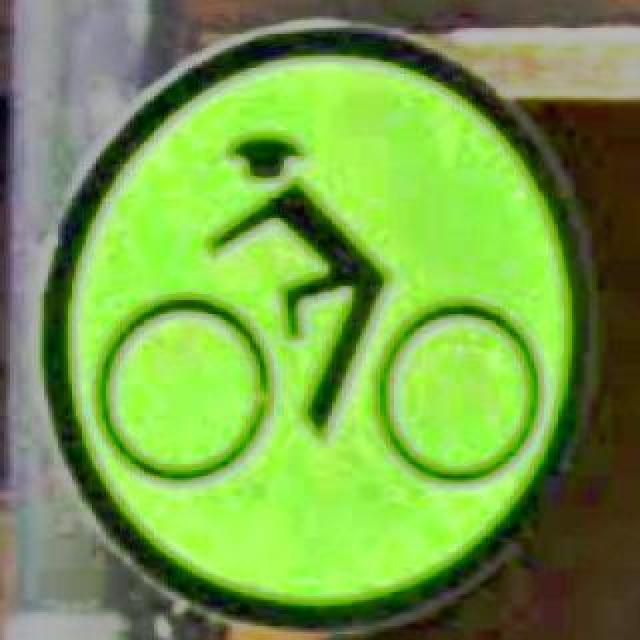bike lane: (38, 18, 592, 630)
